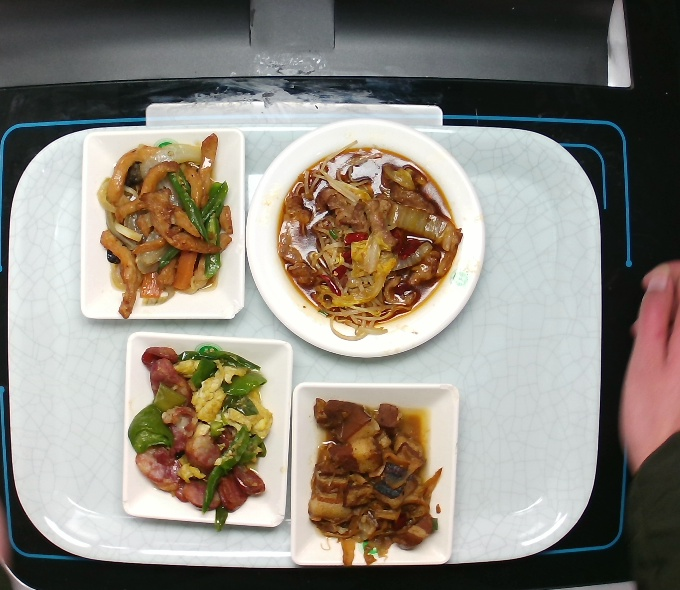wcq-HongShaoRou: (305, 396, 443, 564)
wcq-QingJiaoJiDanChaoDaChang: (126, 340, 276, 532)
wcq-QingJiaoRouSi: (95, 132, 235, 319)
wcq-ShuiZhuRouPian: (276, 144, 460, 327)
